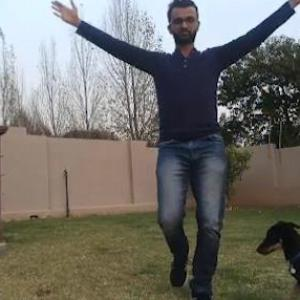takeoff: (55, 0, 299, 283)
